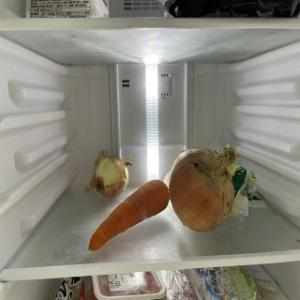carrot: (90, 176, 170, 254)
onion: (169, 147, 239, 233), (91, 150, 134, 200)
